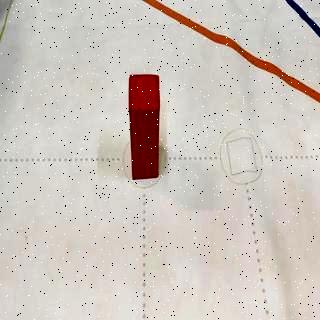redbox: (128, 74, 160, 180)
